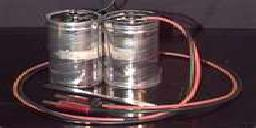Electrolytic-Capacitor: (104, 8, 167, 92), (43, 5, 105, 88)
